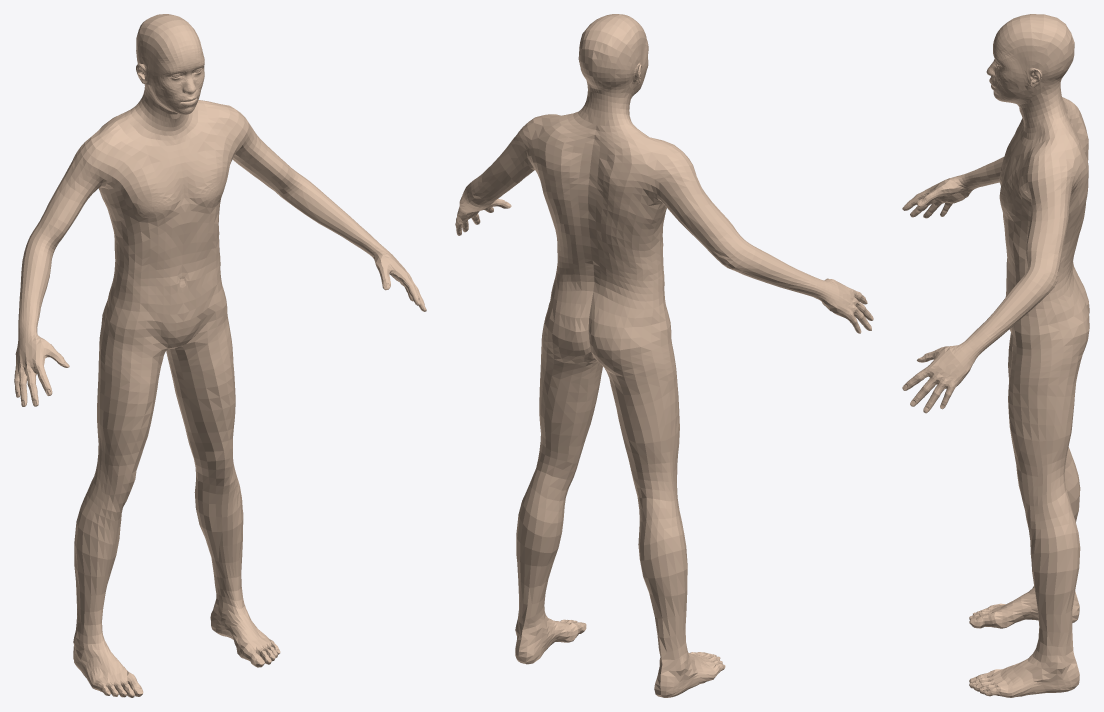
Rendered from male-young-lean-strong.glb.
3 renders of one model, left to right at view 1: azimuth 30°, elevation 25°; view 2: azimuth 150°, elevation 25°; view 3: azimuth 270°, elevation 25°, orthographic.
Visible parts, largest first — view 1: world; view 2: world; view 3: world.
Boxes of the visible parts, x1,y1,x2,y2 form: world: (14,14,426,697); world: (455,14,873,697); world: (902,14,1089,697).
Bounding box in the file's own units: 1.24 × 1.89 × 0.5011.
